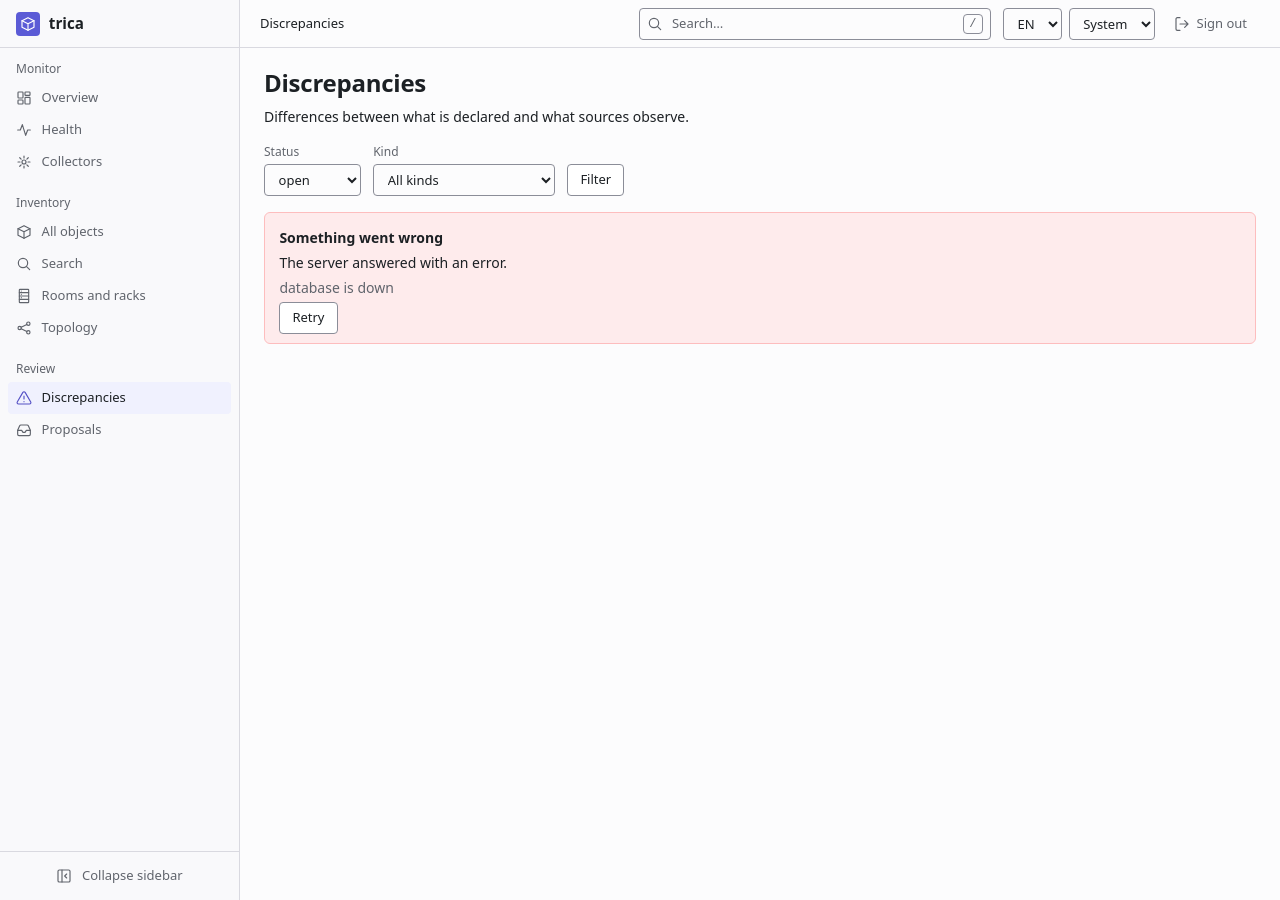
discrepancies › shows an error with a retry, not an empty list
Check: the message shows "database is down", box [279, 278, 394, 297]
Click the button "Retry" at (308, 318), box [279, 302, 338, 334]
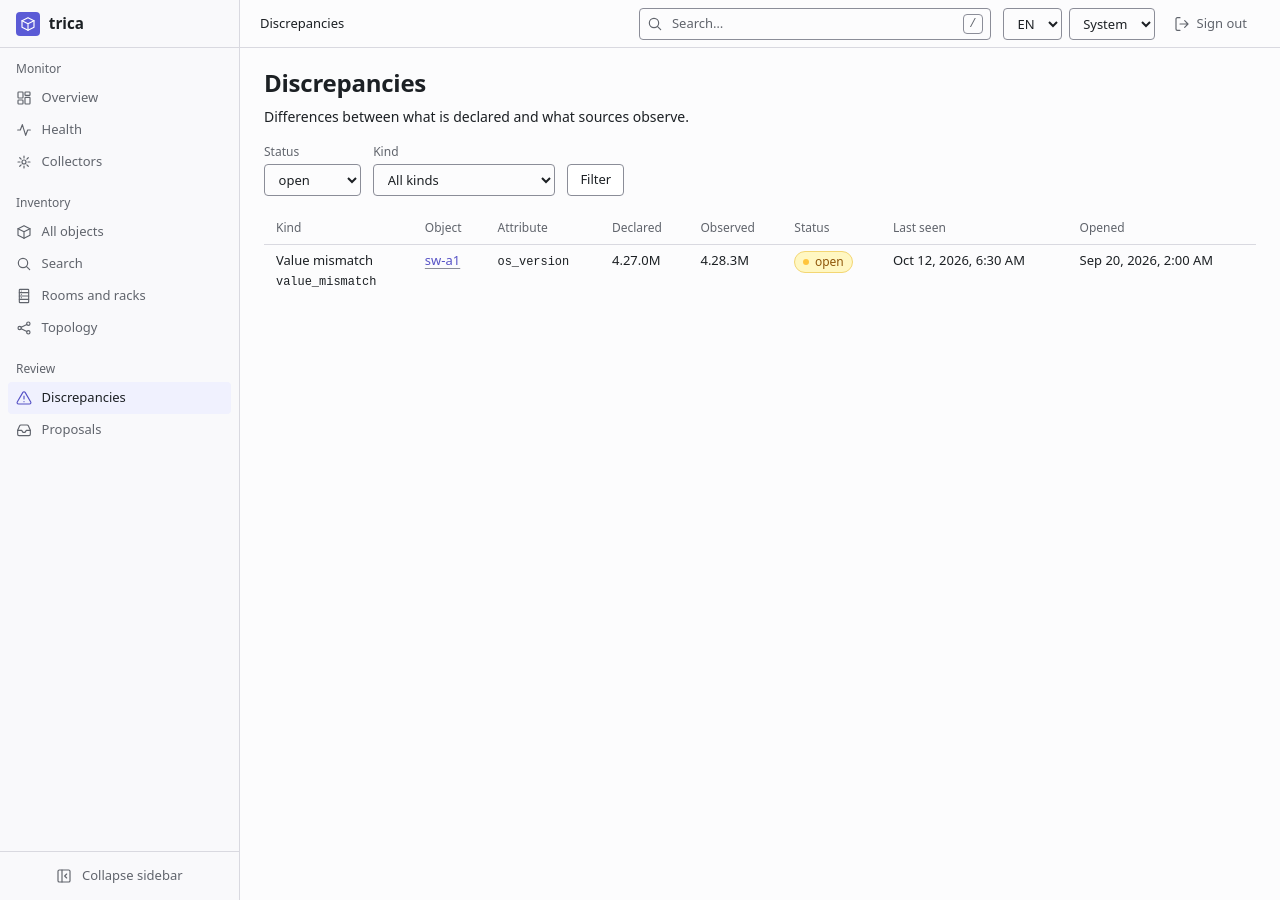
Check: the text "value_mismatch" is shown, box [276, 275, 376, 289]
